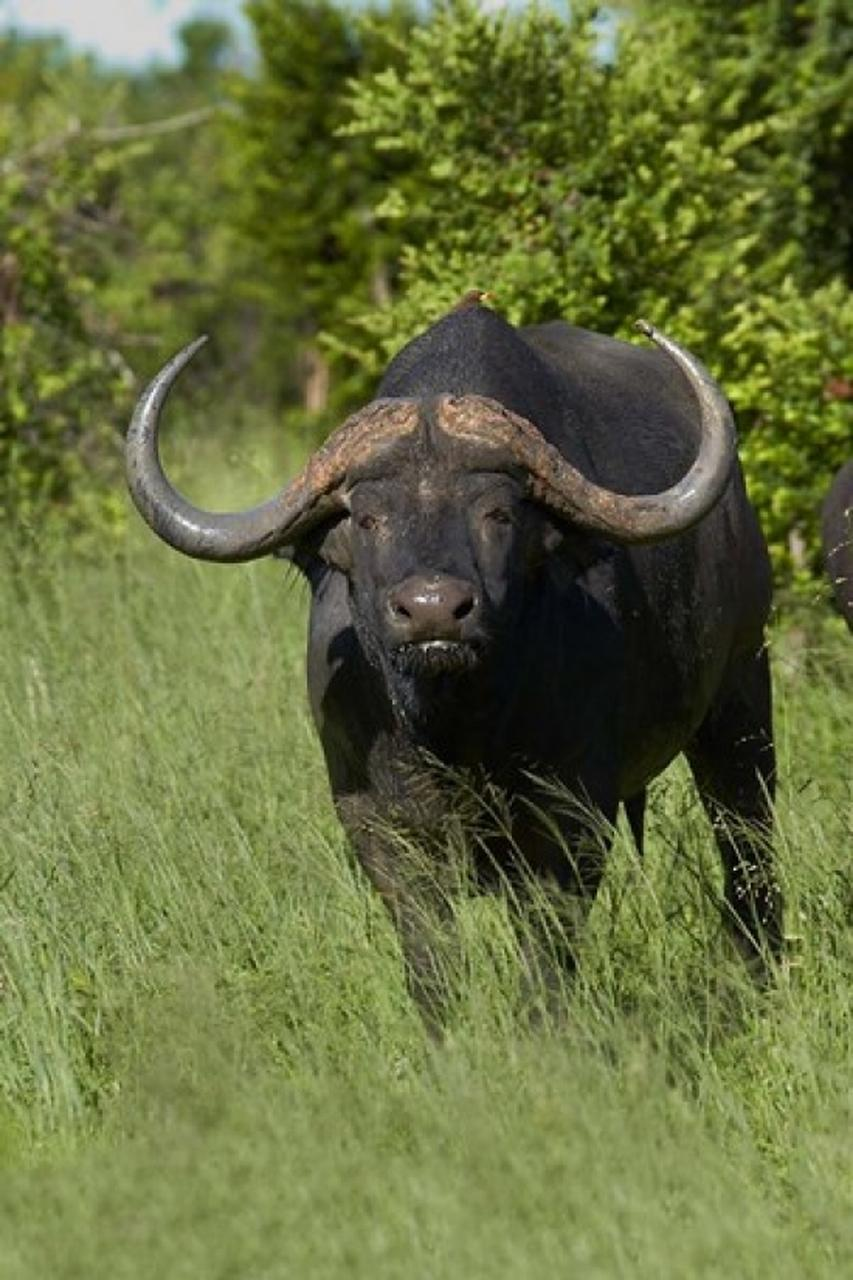Buffalo: (27, 78, 853, 1213)
